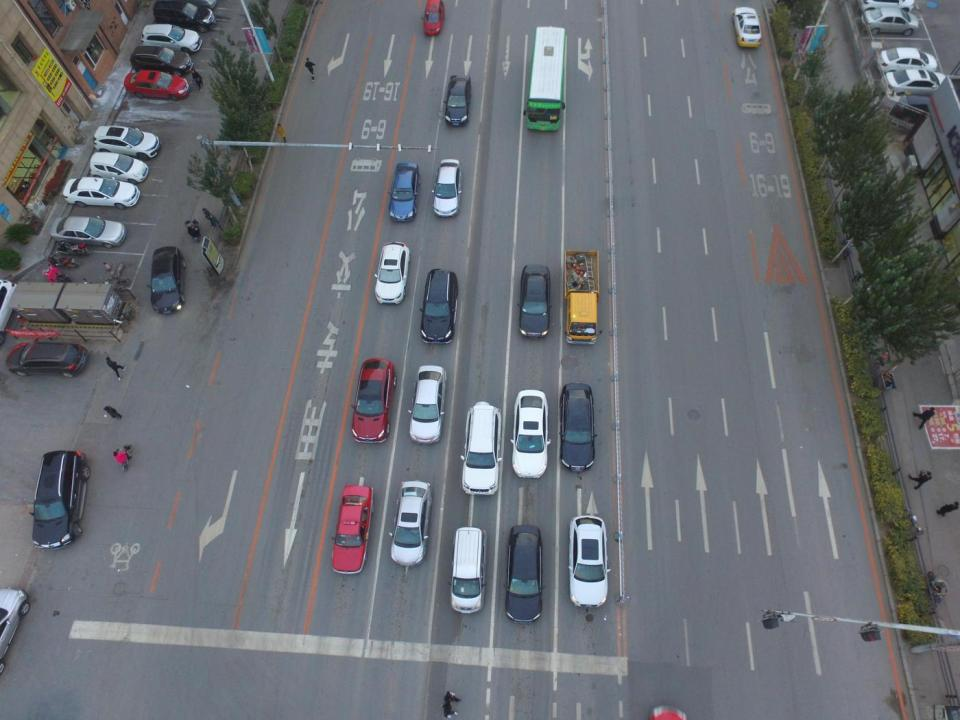bus: (524, 26, 567, 134)
car: (31, 446, 90, 550), (460, 402, 505, 499), (569, 515, 613, 609), (351, 359, 396, 445), (511, 388, 552, 480), (332, 486, 374, 575), (507, 523, 543, 625), (559, 380, 598, 474), (7, 339, 88, 380), (396, 480, 432, 566), (409, 363, 446, 445), (420, 268, 458, 347), (0, 588, 32, 676), (150, 246, 186, 318), (64, 177, 141, 210), (519, 264, 552, 340), (880, 68, 958, 100), (50, 218, 130, 248), (95, 126, 164, 160), (375, 239, 410, 305), (89, 147, 150, 184), (123, 69, 190, 100), (388, 162, 420, 223), (129, 44, 191, 75), (153, 0, 217, 30), (140, 24, 203, 52), (433, 160, 462, 219), (861, 6, 917, 34), (729, 9, 764, 50), (444, 74, 470, 128), (878, 49, 939, 71), (422, 0, 446, 36)
truck: (561, 252, 599, 348)
van: (450, 529, 487, 615)
